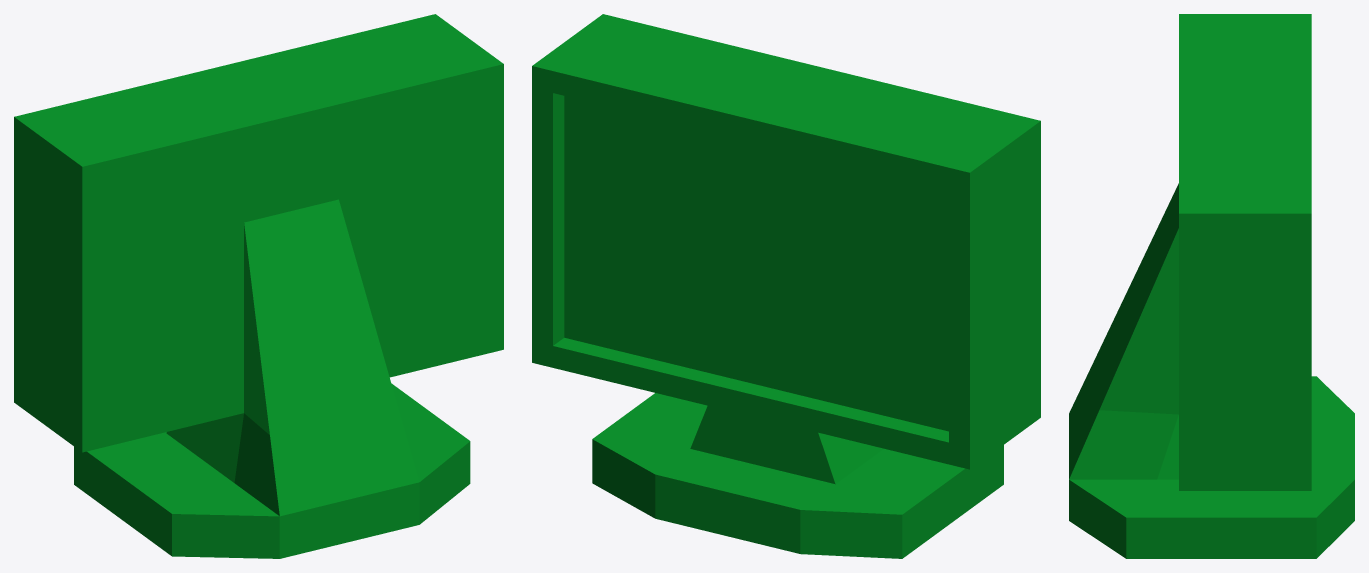
The model's file is Monopoly_GamePeices_Computer.fbx.
The picture shows the model from 3 angles, left to right: view 1: azimuth 30°, elevation 25°; view 2: azimuth 150°, elevation 25°; view 3: azimuth 270°, elevation 25°; orthographic projection. The views are drawn at different scales.
Parts seen in each view (by area): view 1: Computer; view 2: Computer; view 3: Computer.
Part boxes in pixels (bbox=[...]): Computer: bbox=[14, 14, 503, 558]; Computer: bbox=[532, 14, 1040, 558]; Computer: bbox=[1069, 14, 1354, 558].
Size of the model in its own units: 68.09 by 59.44 by 41.18.
